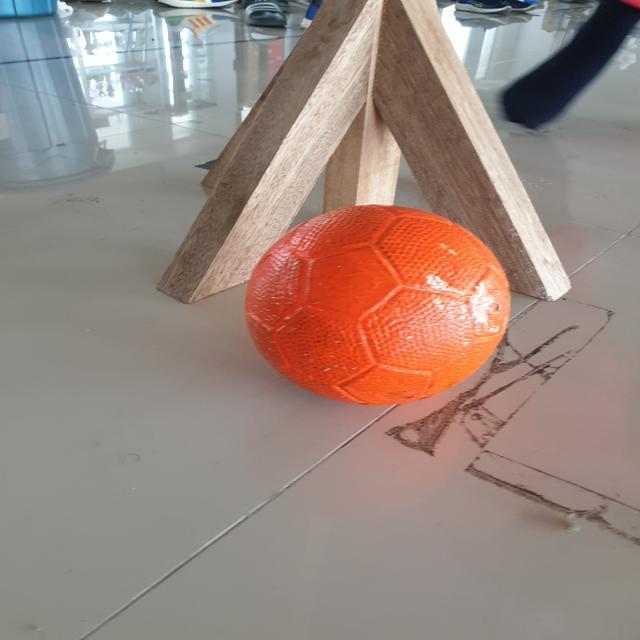bola: (239, 192, 526, 416)
